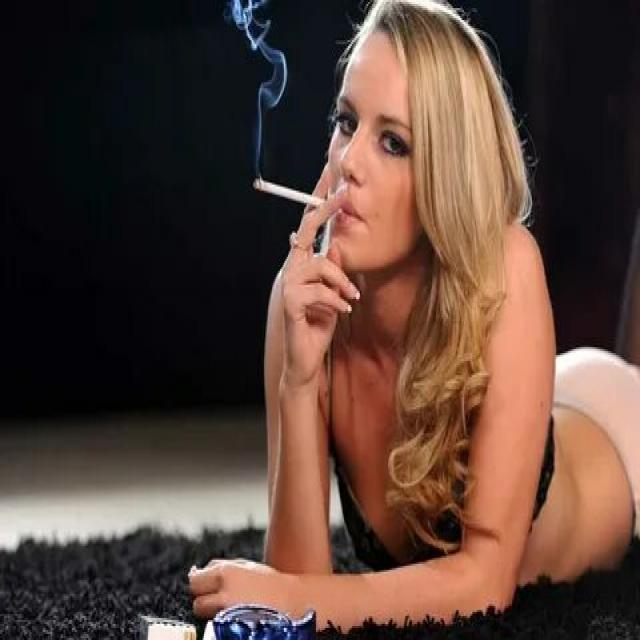cigarette: (252, 168, 329, 216)
